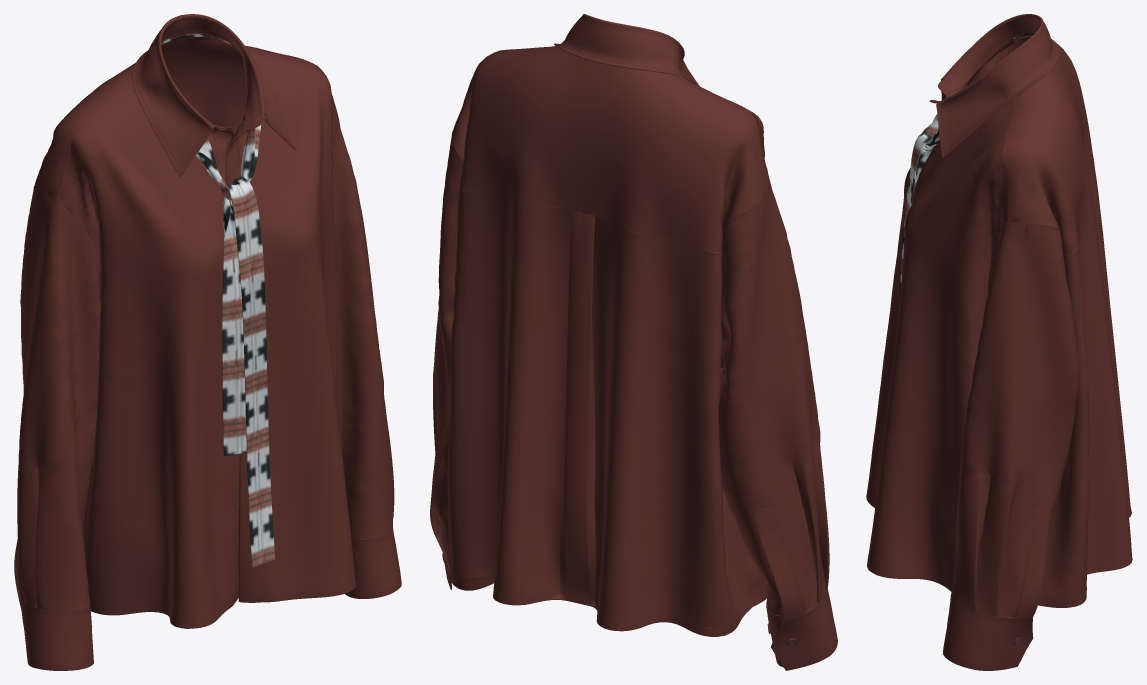
Rendered from cowboy_shirt.glb.
3 renders of one model, left to right at view 1: azimuth 30°, elevation 25°; view 2: azimuth 150°, elevation 25°; view 3: azimuth 270°, elevation 25°, orthographic. The views are drawn at different scales.
Visible parts, largest first — view 1: Object_8, Object_7, Object_6, Object_9, Object_11, Object_10, Object_12, Object_14; view 2: Object_13, Object_9, Object_6, Object_11, Object_10, Object_14, Object_12, Object_8; view 3: Object_11, Object_7, Object_13, Object_9, Object_10, Object_8, Object_14.
Part boxes in pixels (bbox=[...]): Object_8: bbox=[56, 92, 239, 628]; Object_7: bbox=[211, 64, 356, 602]; Object_6: bbox=[17, 188, 100, 610]; Object_9: bbox=[33, 33, 340, 567]; Object_11: bbox=[332, 131, 401, 598]; Object_10: bbox=[132, 14, 295, 628]; Object_12: bbox=[19, 600, 93, 670]; Object_14: bbox=[14, 119, 354, 602]; Object_13: bbox=[447, 189, 752, 636]; Object_9: bbox=[451, 46, 771, 252]; Object_6: bbox=[718, 189, 829, 615]; Object_11: bbox=[432, 138, 494, 590]; Object_10: bbox=[554, 14, 699, 86]; Object_14: bbox=[430, 427, 803, 636]; Object_12: bbox=[766, 588, 837, 670]; Object_8: bbox=[718, 95, 770, 606]; Object_11: bbox=[943, 221, 1078, 670]; Object_7: bbox=[867, 88, 1012, 591]; Object_13: bbox=[1038, 159, 1132, 607]; Object_9: bbox=[899, 32, 1094, 299]; Object_10: bbox=[930, 14, 1059, 159]; Object_8: bbox=[866, 37, 1015, 507]; Object_14: bbox=[872, 100, 1132, 618].
Size of the model in its own units: 509 by 784 by 332.
1 material, 1 textured.
